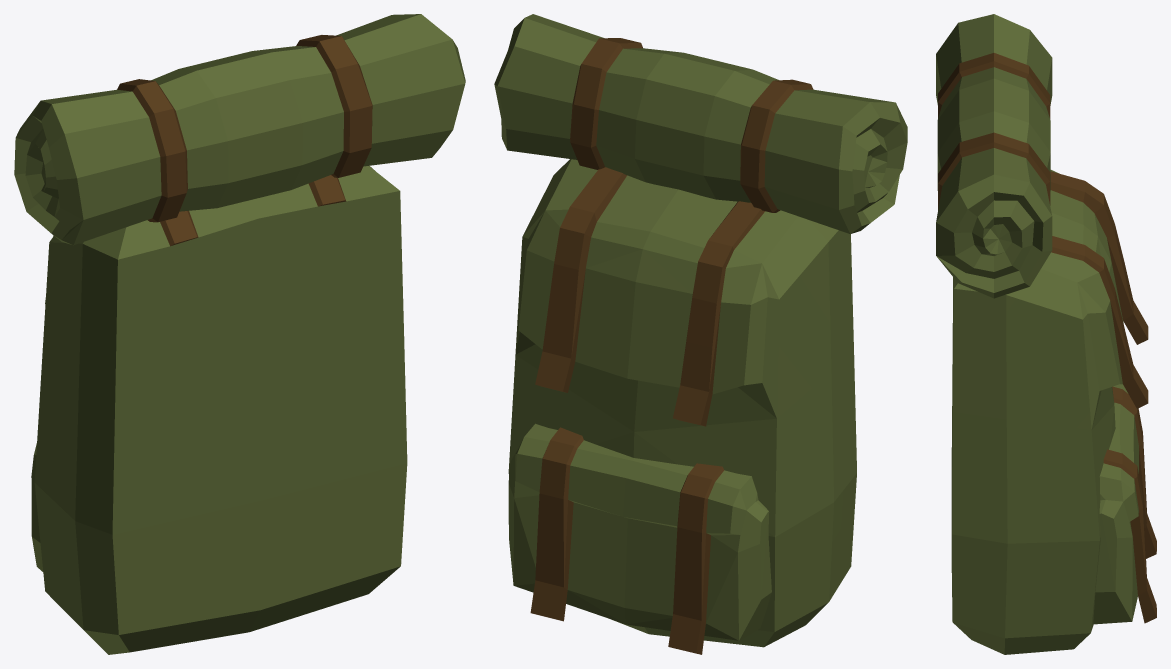
Rendered from Mochila.FBX.
3 views of the same model, side by side, from view 1: azimuth 30°, elevation 25°; view 2: azimuth 150°, elevation 25°; view 3: azimuth 270°, elevation 25° (orthographic). The views are drawn at different scales.
Parts seen in each view (by area): view 1: Mochila; view 2: Mochila; view 3: Mochila.
Part boxes in pixels (x1,y1,x2,y2): Mochila: (14, 14, 465, 654); Mochila: (494, 14, 907, 654); Mochila: (936, 14, 1156, 654).
Size of the model in its own units: 45.18 by 61.13 by 23.75.
Materials: 1 (1 with a texture image).
